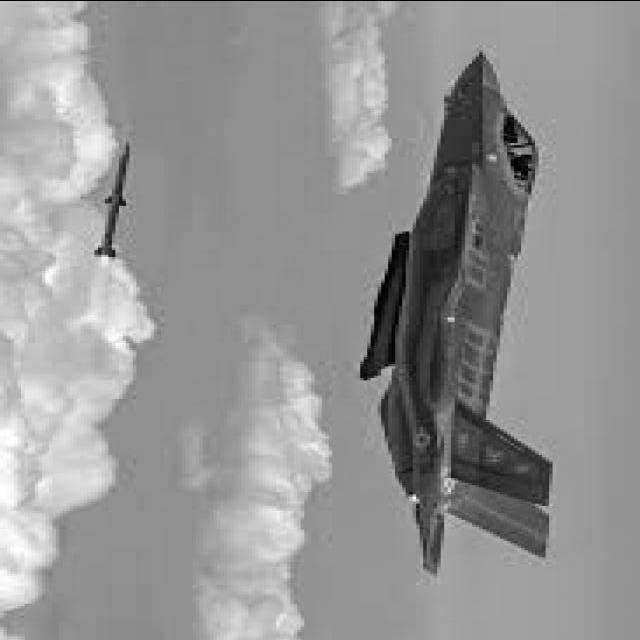Missile: (87, 139, 140, 269)
